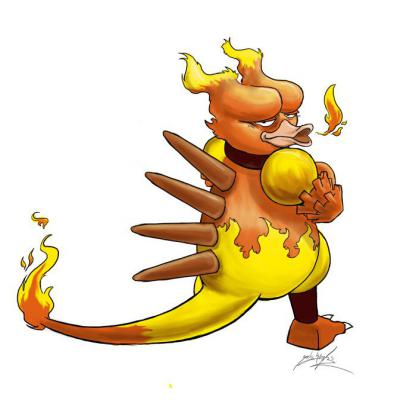Magmar: (1, 1, 416, 378)
